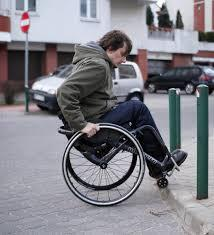wheelchair: (57, 29, 188, 207)
